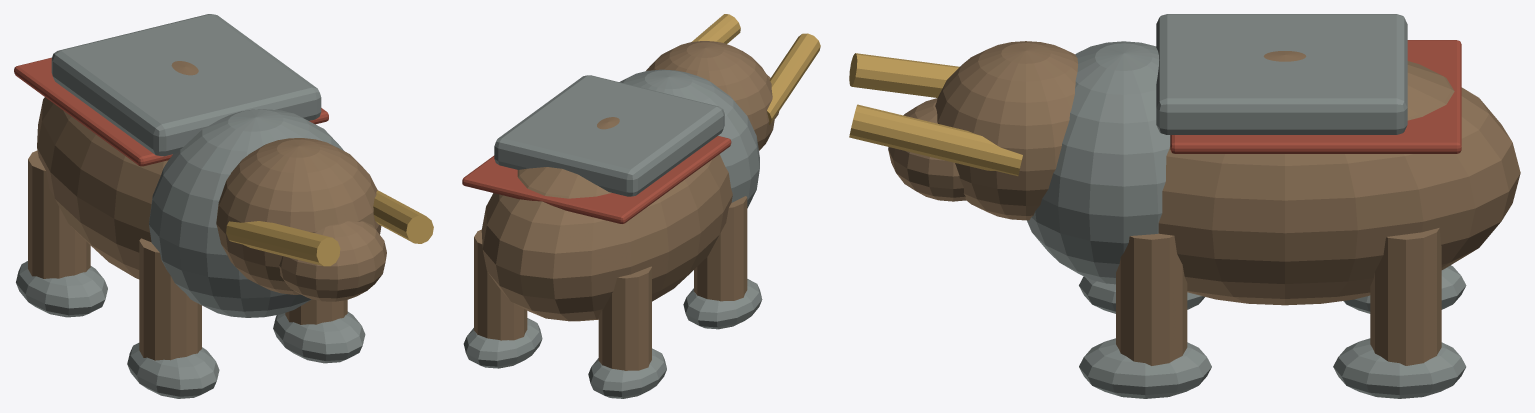
Rendered from unit-siege-beast.glb.
3 views of the same model, side by side, from view 1: azimuth 30°, elevation 25°; view 2: azimuth 150°, elevation 25°; view 3: azimuth 270°, elevation 25° (orthographic). The views are drawn at different scales.
Parts seen in each view (by area): view 1: siege saddle, armoured chest, broad beast head, massive quadruped body, armoured leg, muzzle, armoured leg.001, red command blanket, broad hoof, broad hoof.001, broad hoof.002, left charge horn (+2 smaller); view 2: massive quadruped body, siege saddle, red command blanket, broad beast head, armoured chest, armoured leg.001, armoured leg, armoured leg.003, broad hoof.001, broad hoof.003, broad hoof, left charge horn (+1 smaller); view 3: massive quadruped body, siege saddle, armoured chest, broad beast head, red command blanket, armoured leg.003, armoured leg.002, right charge horn, broad hoof.003, broad hoof.002, left charge horn, muzzle (+2 smaller).
Boxes of the visible parts, left/top/right/bottom form: siege saddle: left=51, top=14, right=321, bottom=156; armoured chest: left=149, top=109, right=343, bottom=317; broad beast head: left=216, top=138, right=381, bottom=294; massive quadruped body: left=37, top=61, right=198, bottom=279; armoured leg: left=139, top=238, right=201, bottom=360; muzzle: left=279, top=221, right=386, bottom=301; armoured leg.001: left=28, top=150, right=90, bottom=278; red command blanket: left=14, top=57, right=328, bottom=166; broad hoof: left=127, top=343, right=219, bottom=398; broad hoof.001: left=16, top=261, right=107, bottom=317; broad hoof.002: left=273, top=311, right=365, bottom=363; left charge horn: left=226, top=221, right=340, bottom=266; massive quadruped body: left=481, top=117, right=732, bottom=321; siege saddle: left=494, top=75, right=724, bottom=196; red command blanket: left=462, top=136, right=731, bottom=223; broad beast head: left=646, top=41, right=774, bottom=150; armoured chest: left=619, top=69, right=759, bottom=208; armoured leg.001: left=598, top=266, right=651, bottom=370; armoured leg: left=694, top=196, right=747, bottom=301; armoured leg.003: left=474, top=229, right=527, bottom=340; broad hoof.001: left=588, top=348, right=666, bottom=398; broad hoof.003: left=463, top=318, right=542, bottom=368; broad hoof: left=683, top=279, right=762, bottom=329; left charge horn: left=767, top=33, right=820, bottom=124; massive quadruped body: left=1158, top=51, right=1520, bottom=305; siege saddle: left=1156, top=14, right=1407, bottom=134; armoured chest: left=1027, top=41, right=1170, bottom=284; broad beast head: left=935, top=41, right=1077, bottom=220; red command blanket: left=1170, top=40, right=1461, bottom=153; armoured leg.003: left=1370, top=228, right=1441, bottom=365; armoured leg.002: left=1116, top=233, right=1187, bottom=365; right charge horn: left=849, top=104, right=1022, bottom=176; broad hoof.003: left=1333, top=338, right=1466, bottom=398; broad hoof.002: left=1079, top=338, right=1211, bottom=398; left charge horn: left=849, top=53, right=959, bottom=97; muzzle: left=888, top=98, right=966, bottom=201.
Bounding box in the file's own units: 1.86 × 2.14 × 4.33.
